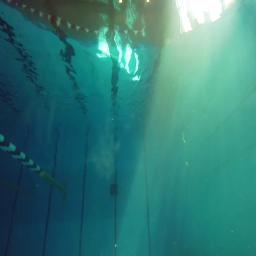Full: (110, 188, 118, 196)
